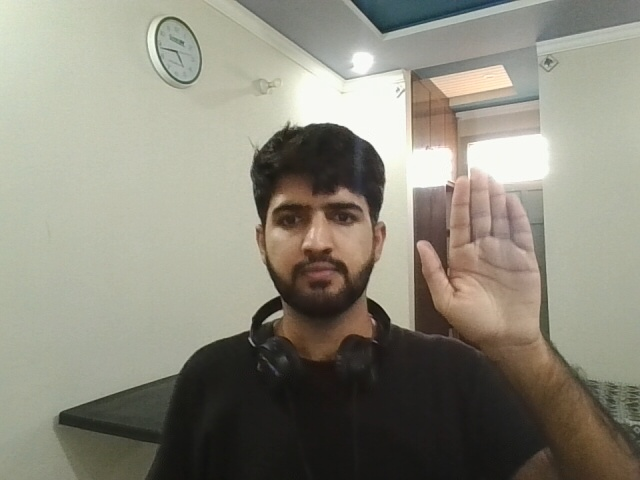Hello: (403, 162, 570, 362)
